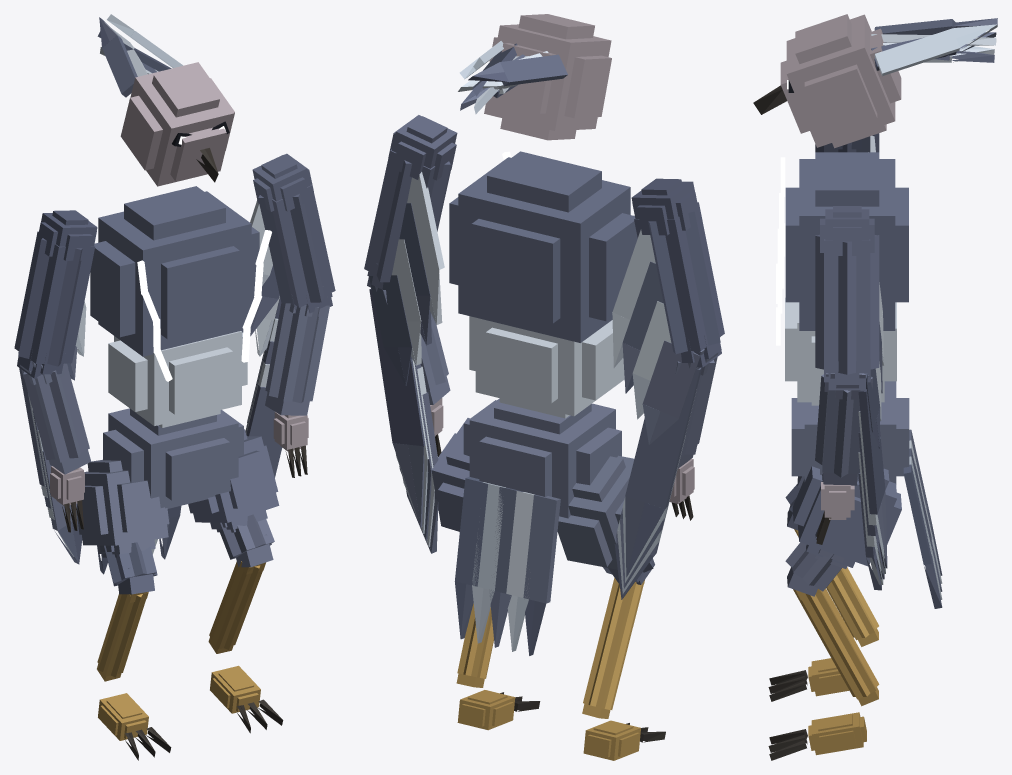
3 renders of one model, left to right at view 1: azimuth 30°, elevation 25°; view 2: azimuth 150°, elevation 25°; view 3: azimuth 270°, elevation 25°, orthographic. The views are drawn at different scales.
Parts seen in each view (by area): view 1: StormHarpy; view 2: StormHarpy; view 3: StormHarpy.
Part boxes in pixels (x1,y1,x2,y2): StormHarpy: [14, 14, 335, 760]; StormHarpy: [364, 14, 724, 760]; StormHarpy: [753, 14, 997, 760].
Size of the model in its own units: 0.6902 by 1.37 by 0.4325.
